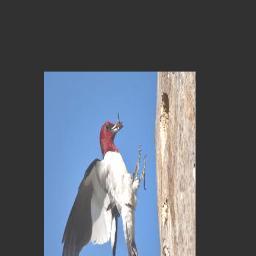Woodpecker: (61, 115, 146, 256)
